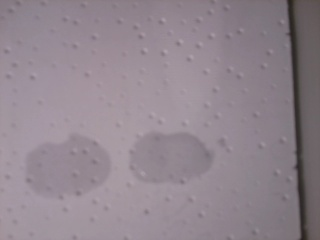Water_detected: (134, 133, 206, 185), (36, 146, 95, 191)
